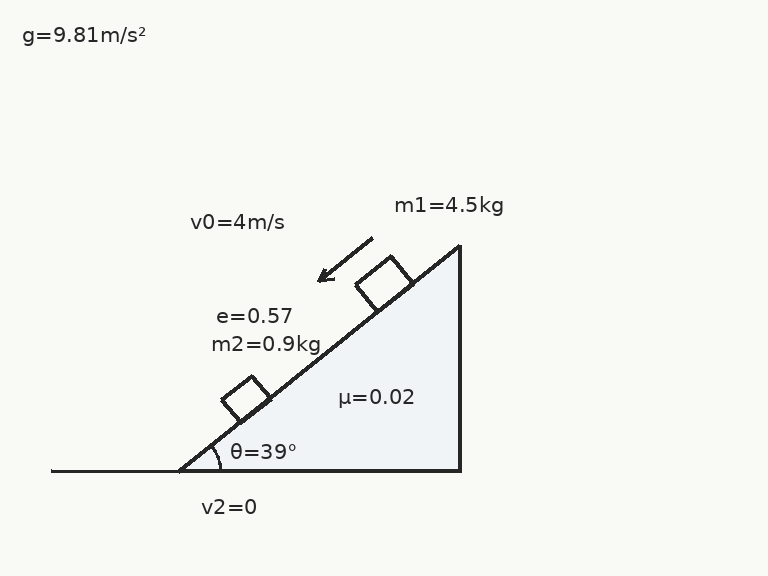block: (353, 254, 415, 314), (220, 373, 273, 425)
ramp: (178, 244, 460, 473)
